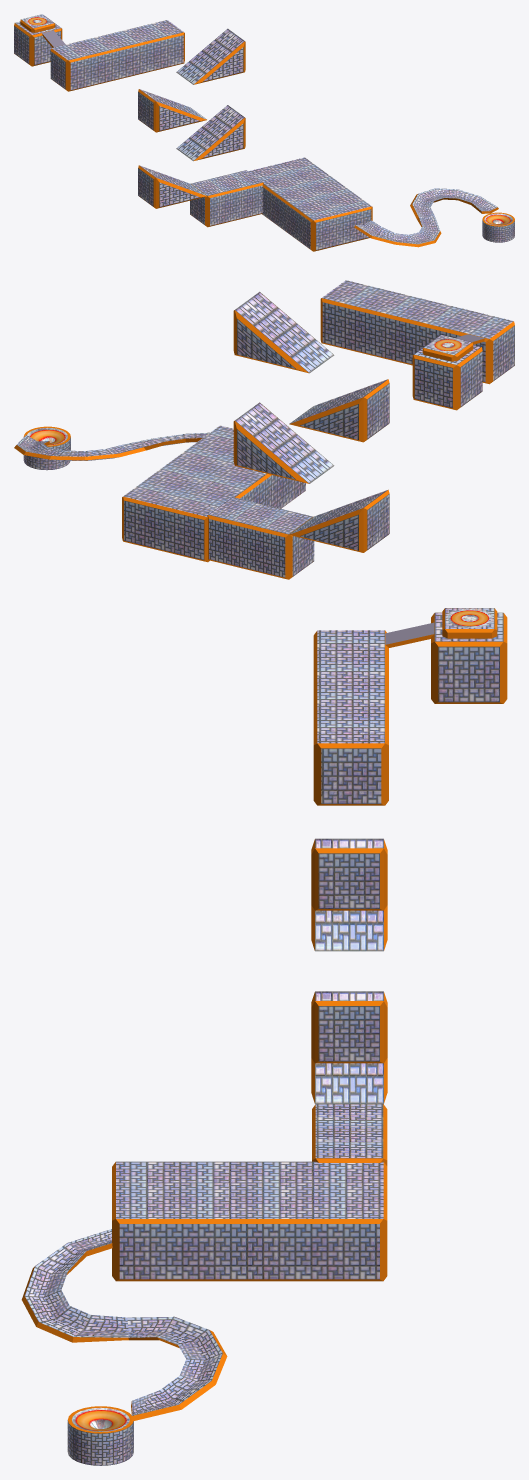
The model's file is Level16.fbx.
3 renders of one model, top to bottom at view 1: azimuth 30°, elevation 25°; view 2: azimuth 150°, elevation 25°; view 3: azimuth 270°, elevation 25°, orthographic. The views are drawn at different scales.
Parts seen in each view (by area): view 1: Level16; view 2: Level16; view 3: Level16.
Part boxes in pixels (x1,y1,x2,y2): Level16: (14, 14, 514, 251); Level16: (14, 280, 514, 579); Level16: (21, 608, 507, 1465).
Size of the model in its own units: 4013 by 2277 by 2115.
Materials: 10 (7 with a texture image).
